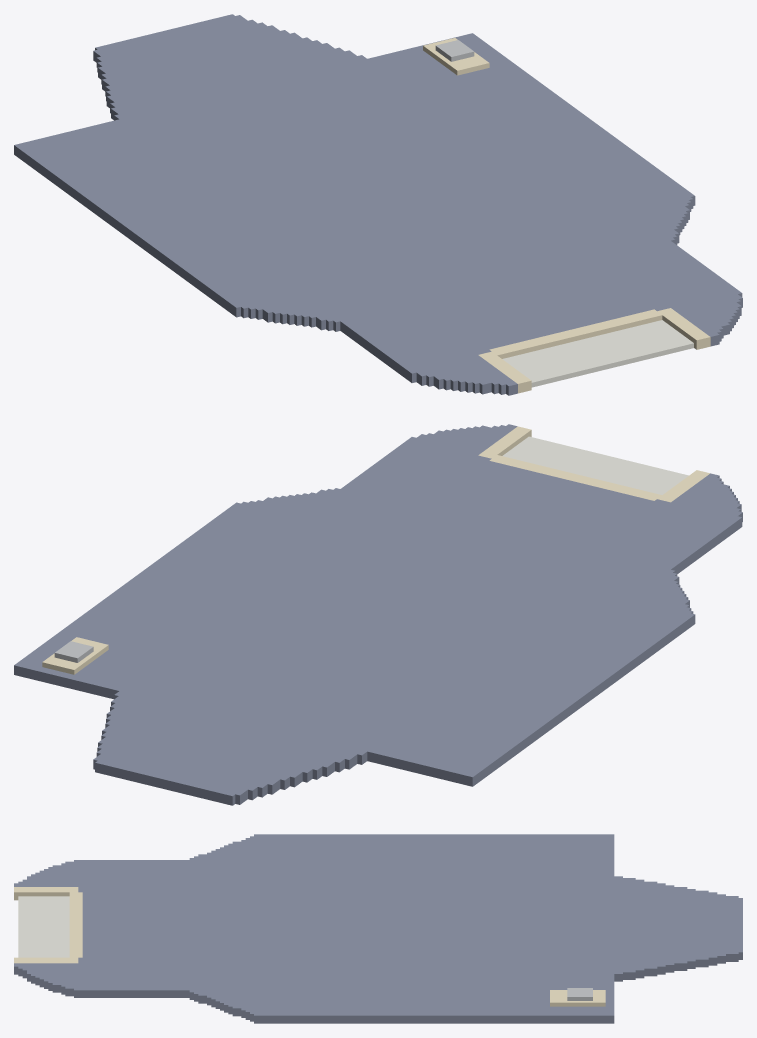
File: lame_foil.glb
3 renders of one model, top to bottom at view 1: azimuth 30°, elevation 25°; view 2: azimuth 150°, elevation 25°; view 3: azimuth 270°, elevation 25°, orthographic. The views are drawn at different scales.
Visible parts, largest first — view 1: lame_foil:compound; view 2: lame_foil:compound; view 3: lame_foil:compound.
Boxes of the visible parts, x1,y1,x2,y2 form: lame_foil:compound: (14,14,742,395); lame_foil:compound: (14,424,742,805); lame_foil:compound: (14,834,742,1023).
Size of the model in its own units: 0.4 by 0.016 by 0.68.
